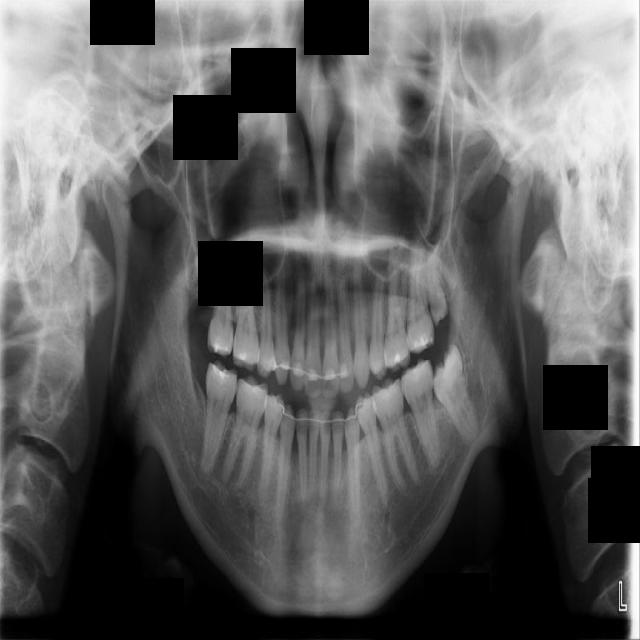52: (199, 358, 243, 412), (202, 310, 241, 360), (381, 326, 414, 374), (406, 303, 435, 353), (231, 324, 261, 372)
73: (575, 578, 593, 578)
BioHorizons Implant: (407, 236, 435, 352)
BioLife Implant: (420, 242, 450, 326)
Biomet 3i Implant: (423, 340, 482, 446)
Blue Sky Bio Implant: (399, 356, 442, 474)
Caries: (206, 252, 234, 357)
Implant: (199, 359, 239, 476)
